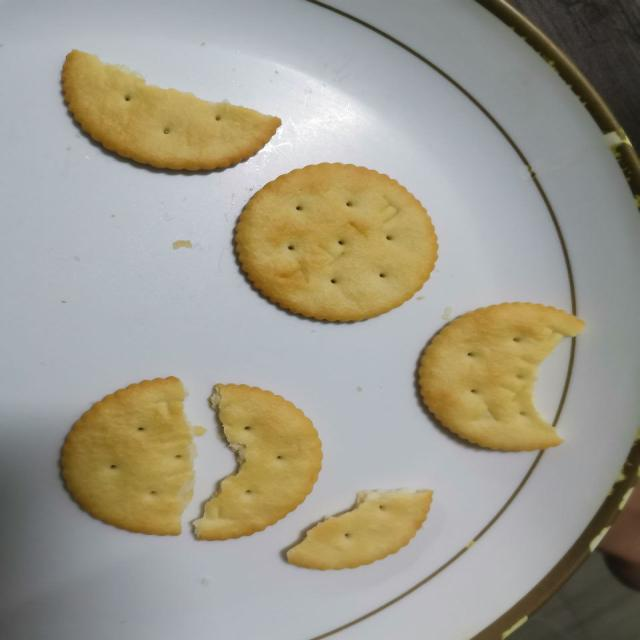broken biscuit: (58, 47, 282, 173), (414, 300, 585, 452), (182, 366, 322, 540), (57, 374, 197, 536), (286, 473, 462, 579)
intact biscuit: (231, 161, 439, 323)
